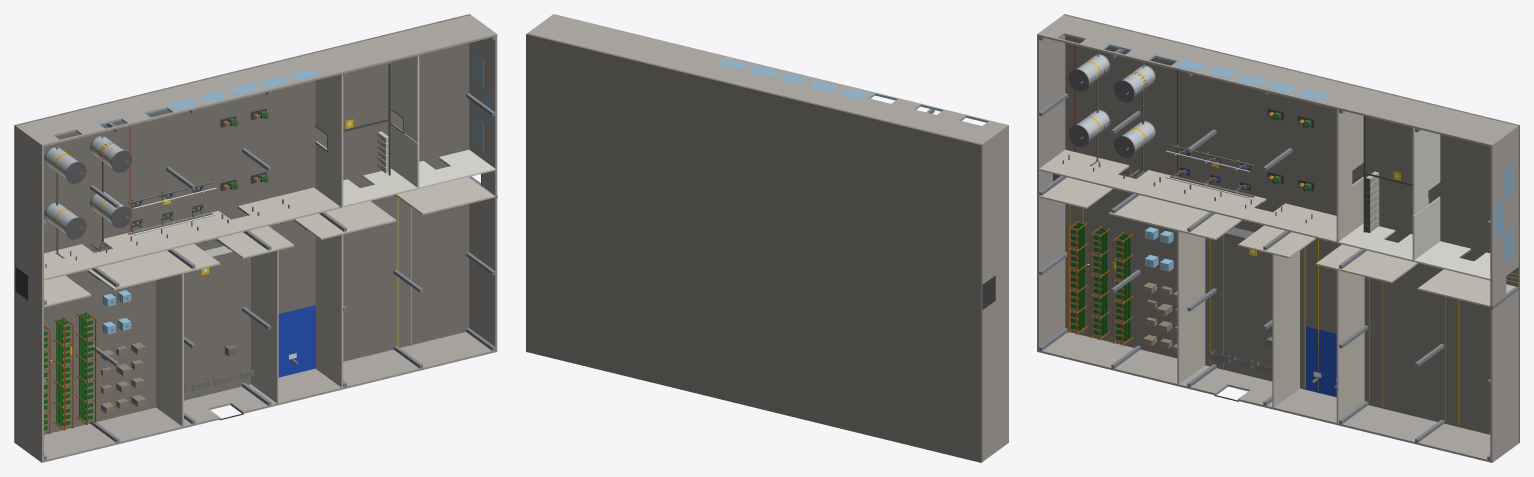
File: factory_layout.obj
The picture shows the model from 3 angles, left to right: view 1: azimuth 30°, elevation 25°; view 2: azimuth 150°, elevation 25°; view 3: azimuth 330°, elevation 25°; orthographic projection.
Parts seen in each view (by area): view 1: FLOOR_MainSlab, WALL_EXT_North, WALL_EXT_South_E, WALL_EXT_West_S, WALL_EXT_South_W, WALL_INT_Charging_East, WALL_EXT_West_N, WALL_INT_CorridorSouth_CS_E1, WALL_INT_Storage_Maintenance, WALL_EXT_East_S, WALL_INT_Maintenance_Charging, WALL_INT_CorridorNorth_CN_W2 (+18 smaller); view 2: FLOOR_MainSlab, WALL_EXT_North, WALL_EXT_West_S, WALL_EXT_West_N; view 3: FLOOR_MainSlab, WALL_EXT_North, WALL_EXT_South_E, WALL_EXT_East_S, WALL_EXT_South_W, WALL_INT_Maintenance_Charging, WALL_INT_Storage_Maintenance, WALL_INT_Charging_East, WALL_EXT_West_S, WALL_INT_CorridorSouth_CS_E1, WALL_EXT_East_N, WALL_EXT_West_N (+18 smaller).
Boxes of the visible parts, <box> form: FLOOR_MainSlab: <box>14,14,470,443</box>; WALL_EXT_North: <box>15,15,496,147</box>; WALL_EXT_South_E: <box>217,332,497,413</box>; WALL_EXT_West_S: <box>15,292,43,462</box>; WALL_EXT_South_W: <box>16,398,220,462</box>; WALL_INT_Charging_East: <box>315,234,343,387</box>; WALL_EXT_West_N: <box>15,127,43,286</box>; WALL_INT_CorridorSouth_CS_E1: <box>294,177,495,239</box>; WALL_INT_Storage_Maintenance: <box>156,273,183,426</box>; WALL_EXT_East_S: <box>469,198,497,352</box>; WALL_INT_Maintenance_Charging: <box>251,250,278,403</box>; WALL_INT_CorridorNorth_CN_W2: <box>101,210,244,260</box>; FLOOR_MainSlab: <box>526,33,982,462</box>; WALL_EXT_North: <box>528,14,1008,145</box>; WALL_EXT_West_S: <box>982,290,1008,459</box>; WALL_EXT_West_N: <box>982,125,1008,284</box>; FLOOR_MainSlab: <box>1063,14,1519,443</box>; WALL_EXT_North: <box>1037,15,1518,146</box>; WALL_EXT_South_E: <box>1238,380,1518,462</box>; WALL_EXT_East_S: <box>1490,291,1518,461</box>; WALL_EXT_South_W: <box>1037,332,1241,394</box>; WALL_INT_Maintenance_Charging: <box>1272,251,1299,407</box>; WALL_INT_Storage_Maintenance: <box>1177,231,1205,384</box>; WALL_INT_Charging_East: <box>1336,270,1364,423</box>; WALL_EXT_West_S: <box>1037,198,1065,351</box>; WALL_INT_CorridorSouth_CS_E1: <box>1316,244,1515,307</box>; WALL_EXT_East_N: <box>1490,126,1518,286</box>; WALL_EXT_West_N: <box>1037,15,1065,175</box>.
Size of the model in its own units: 60.08 by 40.07 by 6.38.
